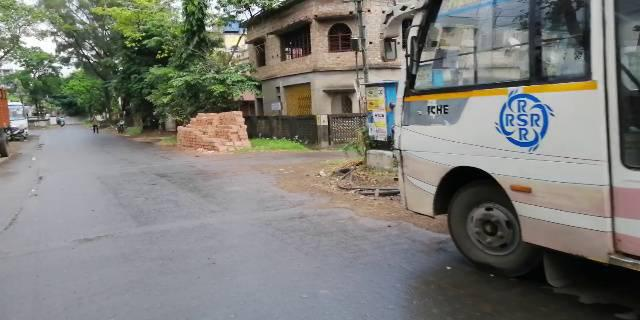Bus: (394, 9, 640, 278)
